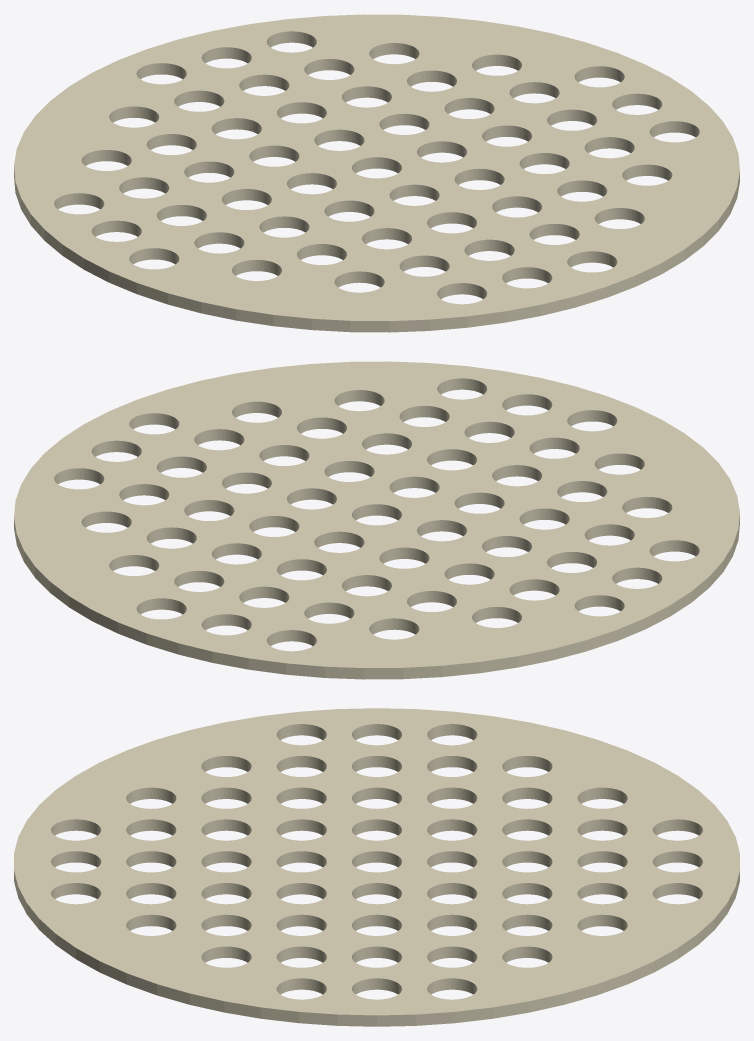
The model's file is oil-pickup-screen.glb.
The picture shows the model from 3 angles, top to bottom: view 1: azimuth 30°, elevation 25°; view 2: azimuth 150°, elevation 25°; view 3: azimuth 270°, elevation 25°; orthographic projection.
Visible parts, largest first — view 1: world; view 2: world; view 3: world.
Boxes of the visible parts, x1,y1,x2,y2 form: world: (14, 14, 739, 332); world: (14, 361, 739, 679); world: (14, 708, 739, 1026).
Size of the model in its own units: 0.058 by 0.001 by 0.0579.
